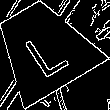L_NW: (16, 18, 71, 78)
